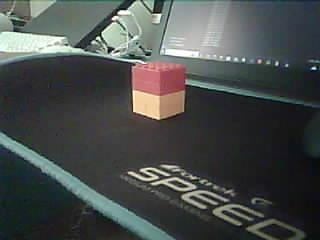lego: (132, 62, 186, 120)
